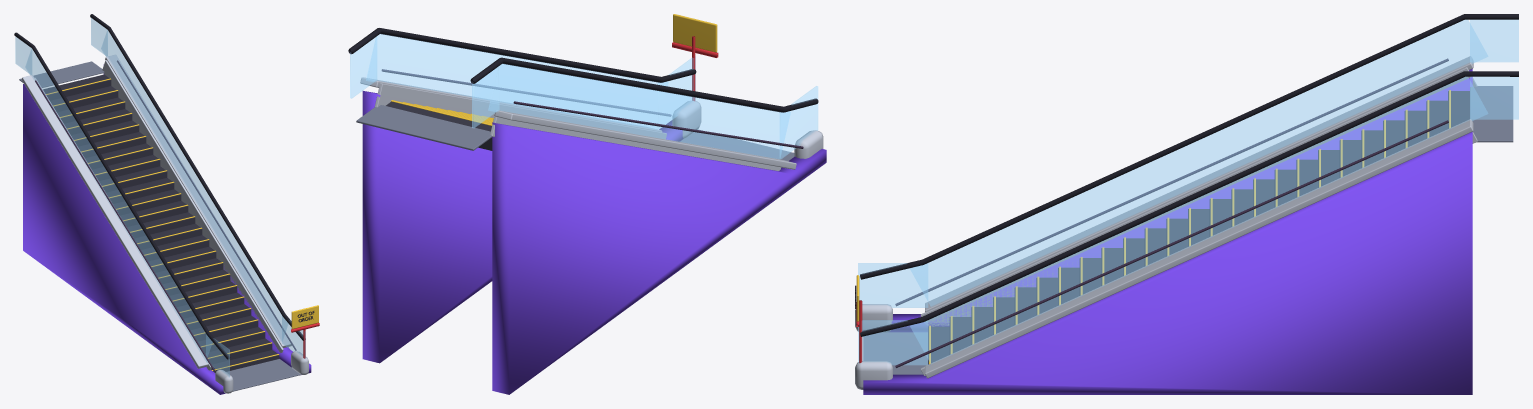
File: mall_escalator_dead.glb
3 renders of one model, left to right at view 1: azimuth 30°, elevation 25°; view 2: azimuth 150°, elevation 25°; view 3: azimuth 270°, elevation 25°, orthographic. The views are drawn at different scales.
Visible parts, largest first — view 1: Escalator; view 2: Escalator; view 3: Escalator.
Part boxes in pixels (x1,y1,x2,y2): Escalator: (14,14,319,394); Escalator: (348,14,826,394); Escalator: (855,14,1518,394).
Bounding box in the file's own units: 3.26 × 6.61 × 12.25.
